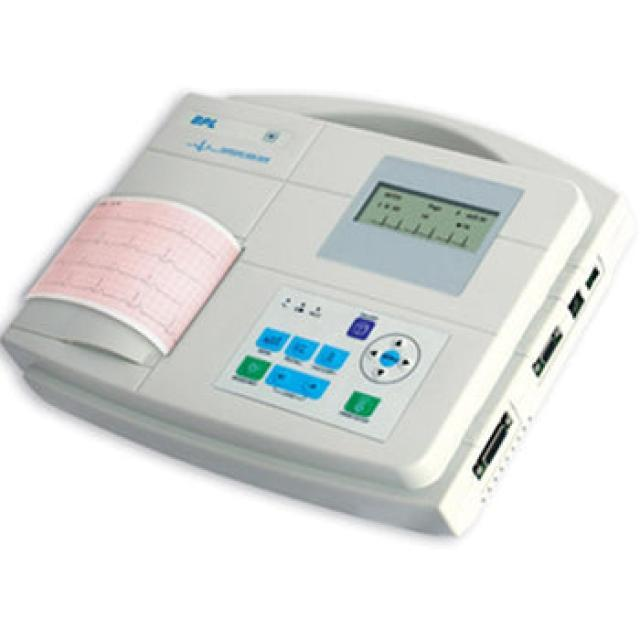Monitor: (0, 87, 636, 537)
